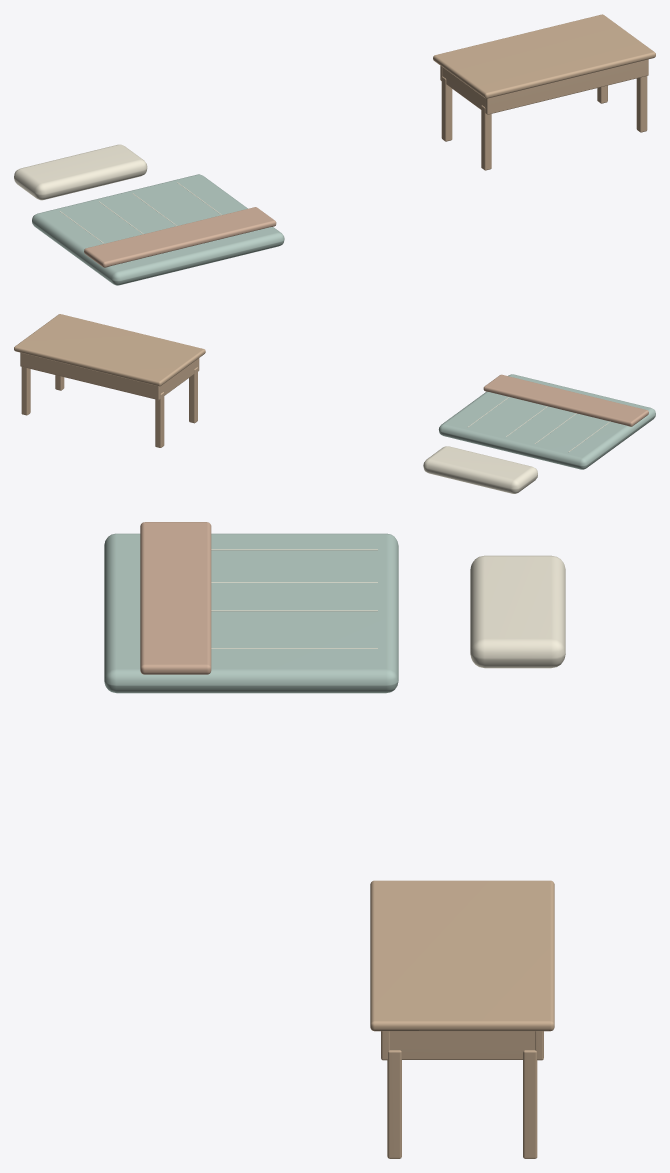
The model's file is apartment_furniture.glb.
3 renders of one model, top to bottom at view 1: azimuth 30°, elevation 25°; view 2: azimuth 150°, elevation 25°; view 3: azimuth 270°, elevation 25°, orthographic. The views are drawn at different scales.
Parts seen in each view (by area): view 1: RoundedDuvet, OakTabletop, SoftPillow, FoldedThrow, OakApron.001, TaperedTableLeg, TaperedTableLeg.003, TaperedTableLeg.001, OakApronSide; view 2: RoundedDuvet, OakTabletop, SoftPillow, FoldedThrow, OakApron, TaperedTableLeg, TaperedTableLeg.002, OakApronSide, TaperedTableLeg.001; view 3: RoundedDuvet, OakTabletop, FoldedThrow, SoftPillow, OakApronSide.001, TaperedTableLeg.002, TaperedTableLeg.003.
Part boxes in pixels (left/top/right/bottom): RoundedDuvet: left=32, top=174, right=284, bottom=285; OakTabletop: left=433, top=14, right=655, bottom=98; SoftPillow: left=14, top=144, right=147, bottom=200; FoldedThrow: left=84, top=207, right=276, bottom=267; OakApron.001: left=485, top=59, right=648, bottom=114; TaperedTableLeg: left=441, top=76, right=452, bottom=141; TaperedTableLeg.003: left=636, top=76, right=647, bottom=132; TaperedTableLeg.001: left=481, top=105, right=491, bottom=170; OakApronSide: left=443, top=68, right=484, bottom=109; RoundedDuvet: left=438, top=374, right=655, bottom=469; OakTabletop: left=14, top=314, right=205, bottom=386; SoftPillow: left=423, top=446, right=537, bottom=493; FoldedThrow: left=483, top=374, right=648, bottom=426; OakApron: left=20, top=352, right=160, bottom=400; TaperedTableLeg: left=155, top=392, right=164, bottom=447; TaperedTableLeg.002: left=21, top=367, right=30, bottom=415; OakApronSide: left=161, top=360, right=197, bottom=395; TaperedTableLeg.001: left=189, top=367, right=197, bottom=423; RoundedDuvet: left=104, top=533, right=398, bottom=693; OakTabletop: left=370, top=880, right=554, bottom=1031; FoldedThrow: left=140, top=522, right=211, bottom=674; SoftPillow: left=470, top=555, right=565, bottom=668; OakApronSide.001: left=390, top=1031, right=534, bottom=1059; TaperedTableLeg.002: left=523, top=1050, right=537, bottom=1158; TaperedTableLeg.003: left=387, top=1050, right=401, bottom=1158.
Size of the model in its own units: 11.08 by 1.4 by 4.16.
